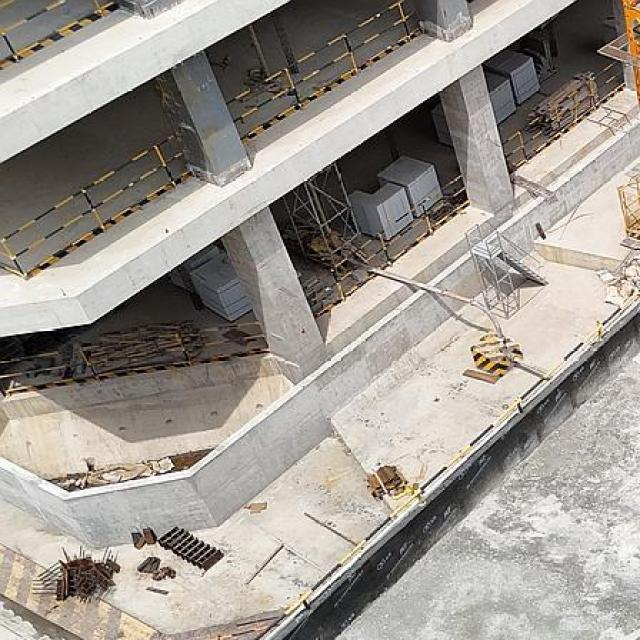edge_guardrail: (248, 285, 640, 640), (0, 132, 191, 279), (226, 0, 420, 143), (304, 174, 470, 316), (0, 320, 264, 380), (502, 61, 618, 159), (0, 0, 103, 56)
